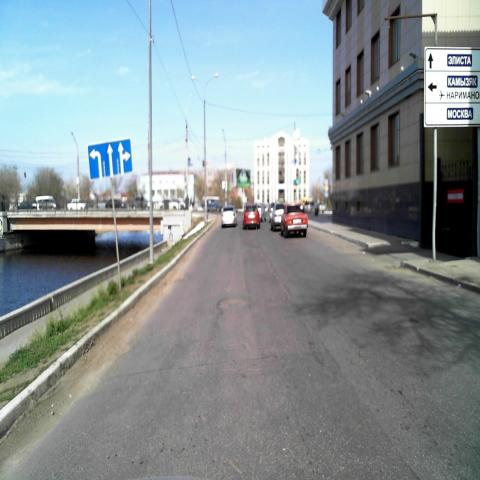5_15_1: (88, 136, 130, 180)
